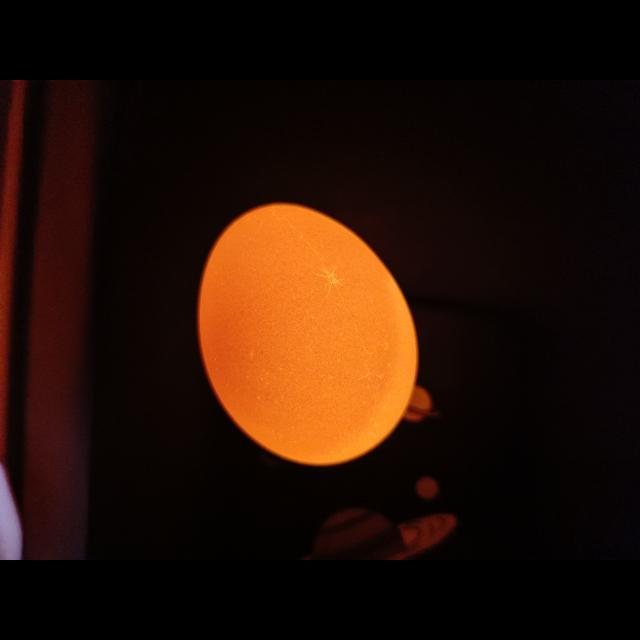AA - Premium: (319, 301, 321, 304), (284, 321, 285, 324), (353, 309, 354, 311)
